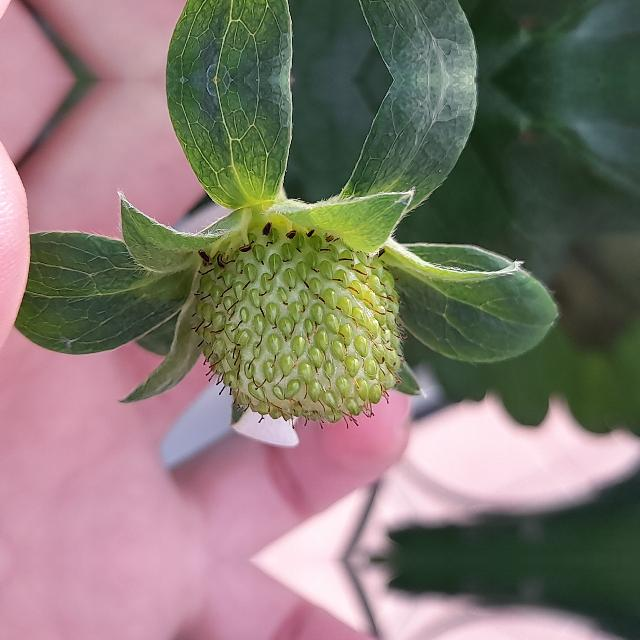Health_25: (190, 214, 408, 428)
